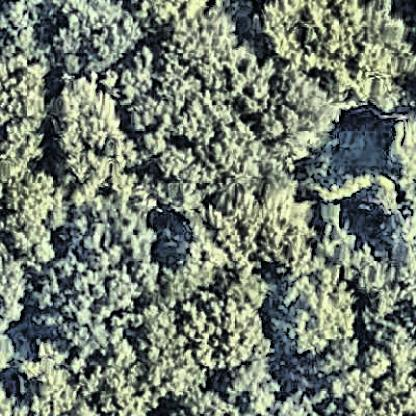tree-top: (160, 133, 299, 219), (43, 76, 137, 202), (228, 56, 333, 166), (121, 56, 220, 159), (35, 260, 134, 354), (256, 1, 373, 72), (45, 1, 146, 75), (69, 200, 162, 279), (269, 283, 354, 364), (348, 21, 416, 119), (335, 337, 416, 416), (187, 201, 275, 273), (182, 298, 256, 381), (162, 6, 242, 82), (1, 171, 66, 257), (87, 339, 155, 416), (17, 340, 85, 416), (1, 65, 45, 169), (148, 304, 194, 396), (225, 346, 283, 416), (265, 216, 322, 277), (1, 1, 46, 71), (1, 243, 34, 333)
